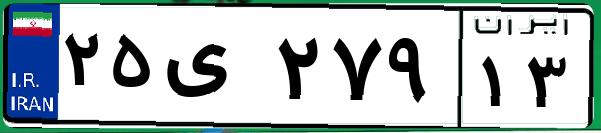1: (475, 38, 525, 113)
2: (270, 28, 330, 110), (57, 26, 110, 100)
3: (525, 38, 570, 115)
5: (110, 28, 158, 98)
7: (330, 28, 385, 110)
9: (385, 28, 445, 110)
ی: (158, 20, 270, 120)
